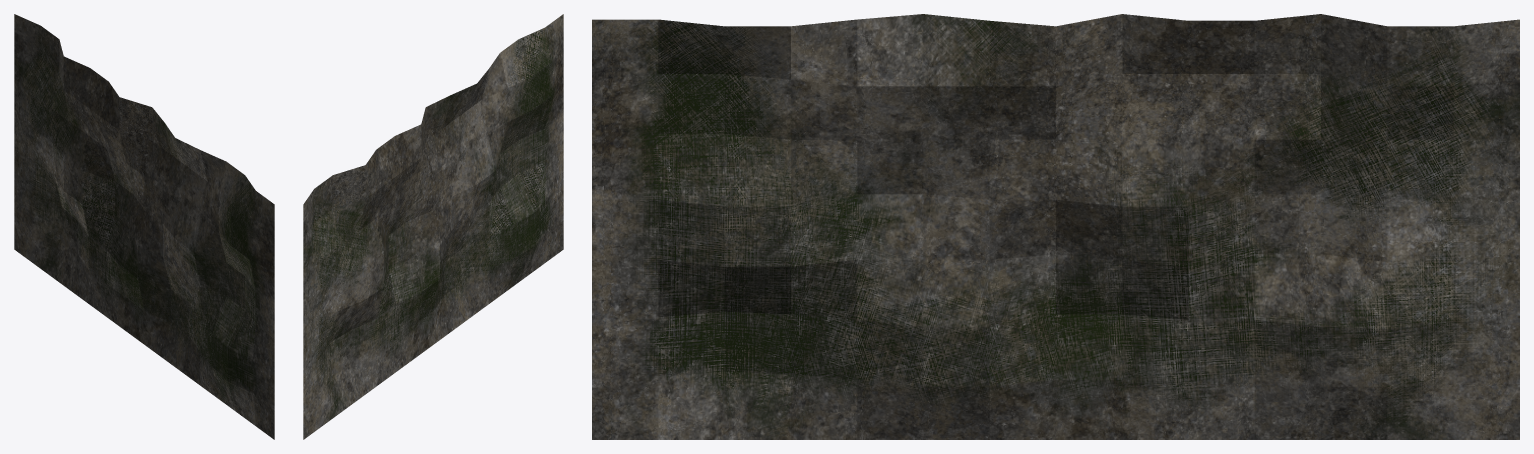
The model's file is underground_floor_half.fbx.
3 renders of one model, left to right at view 1: azimuth 30°, elevation 25°; view 2: azimuth 150°, elevation 25°; view 3: azimuth 270°, elevation 25°, orthographic. The views are drawn at different scales.
Parts seen in each view (by area): view 1: underground_floor_half; view 2: underground_floor_half; view 3: underground_floor_half.
Part boxes in pixels (left/top/right/bottom): underground_floor_half: left=14, top=14, right=274, bottom=439; underground_floor_half: left=303, top=14, right=563, bottom=439; underground_floor_half: left=592, top=14, right=1519, bottom=439.
Size of the model in its own units: 14.52 by 165 by 330.
1 material, 1 textured.
